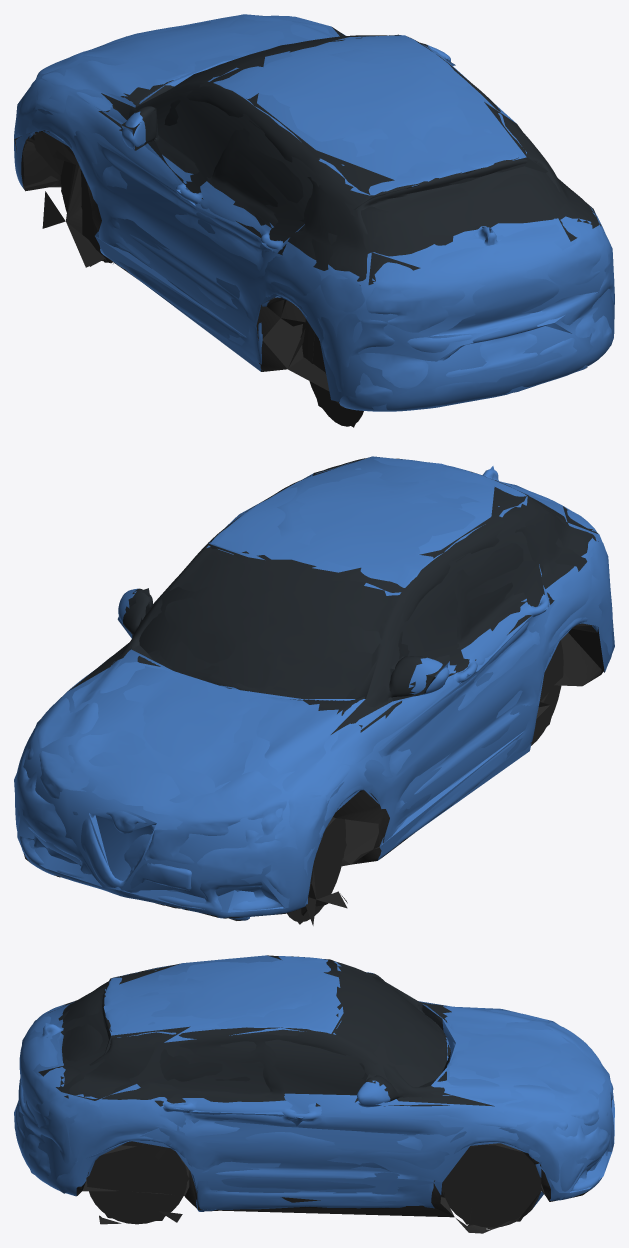
Rendered from alfa-romeo-stelvio.glb.
3 views of the same model, one above another, from view 1: azimuth 30°, elevation 25°; view 2: azimuth 150°, elevation 25°; view 3: azimuth 270°, elevation 25° (orthographic). The views are drawn at different scales.
Parts seen in each view (by area): view 1: body, far; view 2: body, far; view 3: body, far.
Boxes of the visible parts, x1,y1,x2,y2 form: body: (14,15,614,426); far: (14,14,614,427); body: (15,457,612,925); far: (14,456,614,924); body: (15,956,614,1233); far: (14,955,614,1228).
Bounding box in the file's own units: 2.26 × 1.73 × 4.69.
